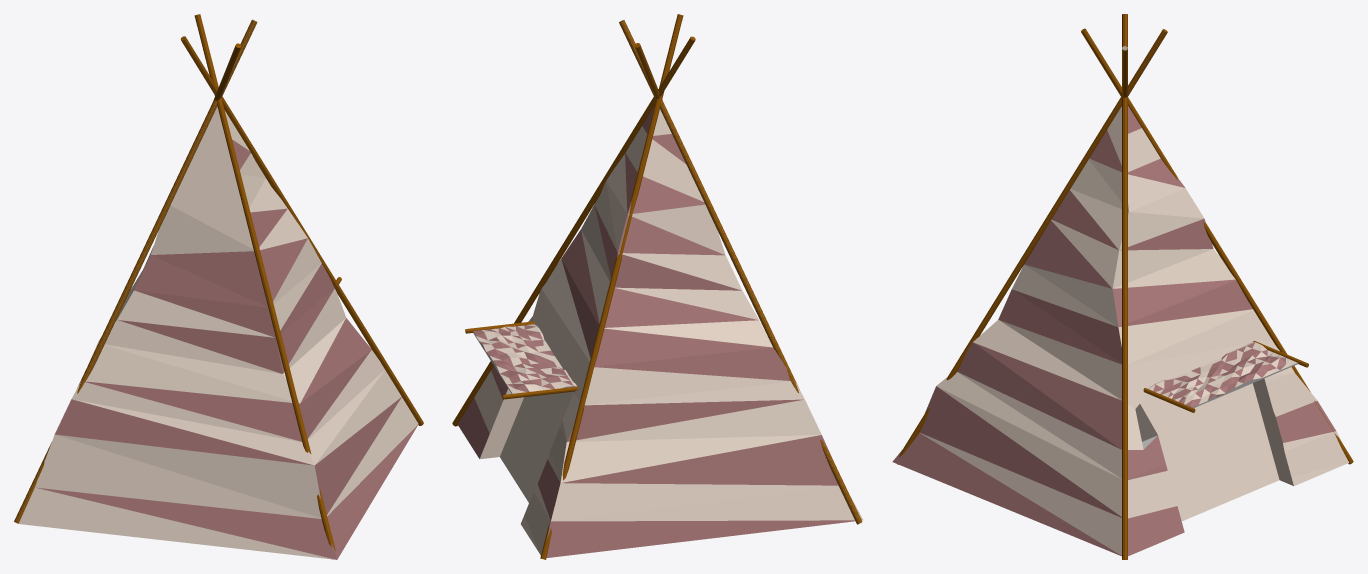
Rendered from Zelt.fbx.
3 views of the same model, side by side, from view 1: azimuth 30°, elevation 25°; view 2: azimuth 150°, elevation 25°; view 3: azimuth 270°, elevation 25° (orthographic). The views are drawn at different scales.
Parts seen in each view (by area): view 1: pPyramid2, pCylinder1, pasted__pasted__pCylinder1, pasted__pCylinder1; view 2: pPyramid2, pasted__pCylinder1 (×2), pCube1, pasted__pasted__pCylinder1; view 3: pPyramid2, pasted__pCylinder1 (×2), pCube1, pCylinder1.
Boxes of the visible parts, x1,y1,x2,y2 form: pPyramid2: (18, 106, 418, 559); pCylinder1: (194, 14, 335, 559); pasted__pasted__pCylinder1: (14, 20, 257, 523); pasted__pCylinder1: (180, 36, 423, 425); pPyramid2: (457, 106, 863, 557); pasted__pCylinder1 (×2): (452, 14, 695, 559); pCube1: (473, 324, 576, 393); pasted__pasted__pCylinder1: (619, 20, 862, 524); pPyramid2: (892, 106, 1349, 556); pasted__pCylinder1 (×2): (1081, 14, 1353, 559); pCube1: (1148, 342, 1297, 408); pCylinder1: (897, 29, 1167, 464).
Bounding box in the file's own units: 7.77 × 8.1 × 7.79.
